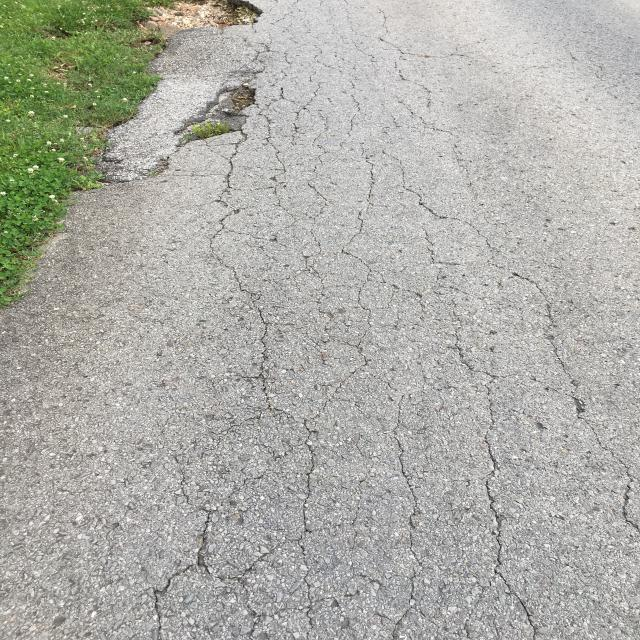Pothole: (0, 0, 324, 422)
